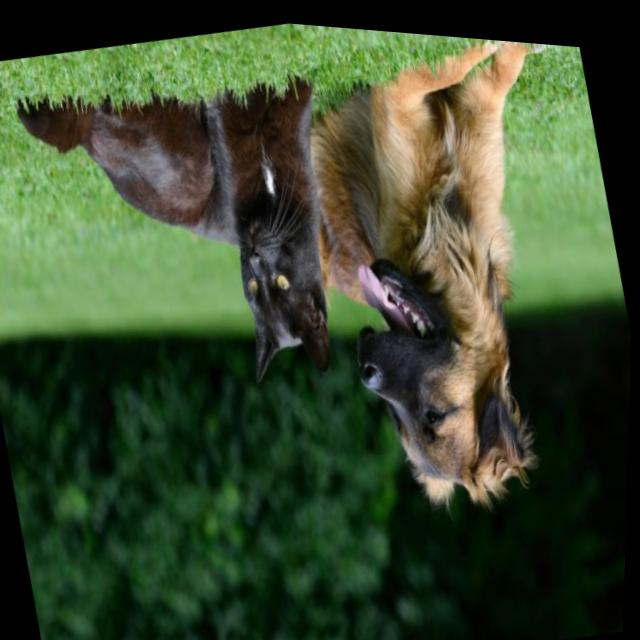Cat: (0, 0, 386, 537)
Dog: (293, 33, 640, 639)
